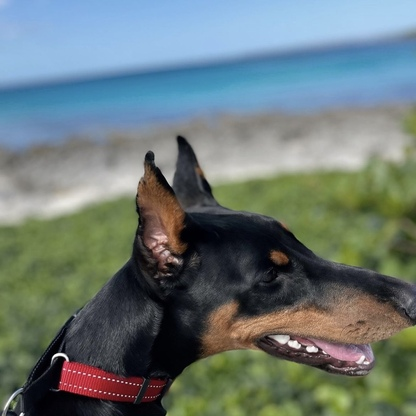doberman: (65, 127, 416, 414)
